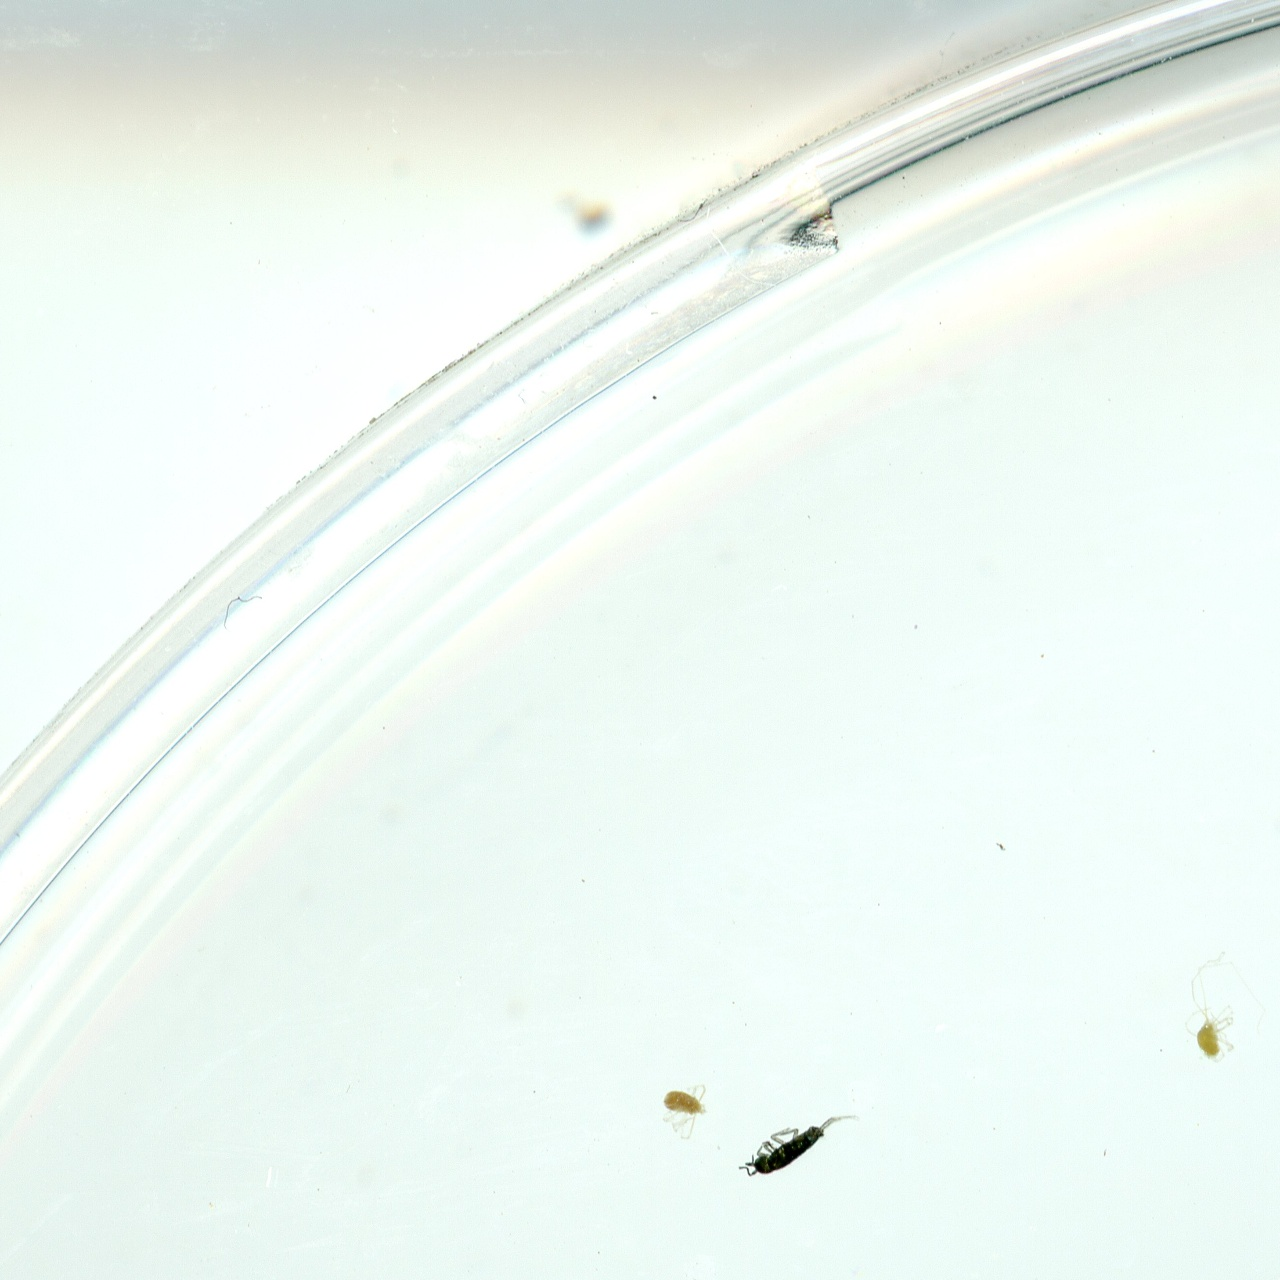arthropod: (1182, 951, 1266, 1064), (738, 1112, 857, 1179), (660, 1083, 708, 1139), (1258, 1240, 1280, 1280)
